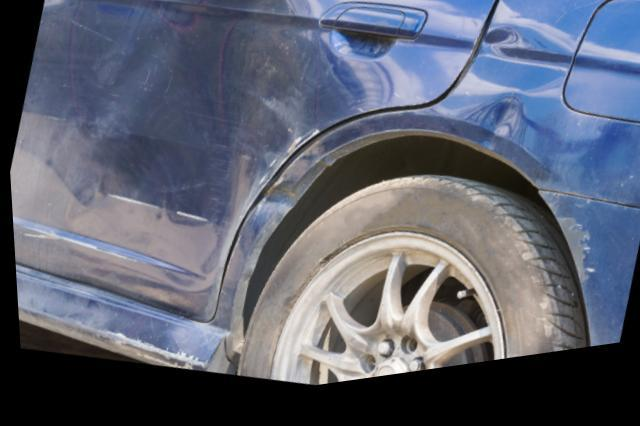dent: (42, 0, 362, 295), (468, 39, 570, 166)
scratch: (98, 331, 203, 376)
